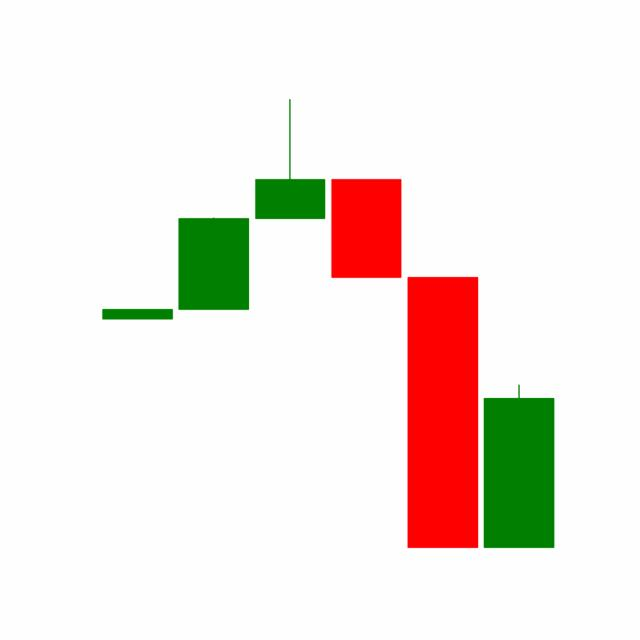Marubozu: (403, 274, 481, 550)
